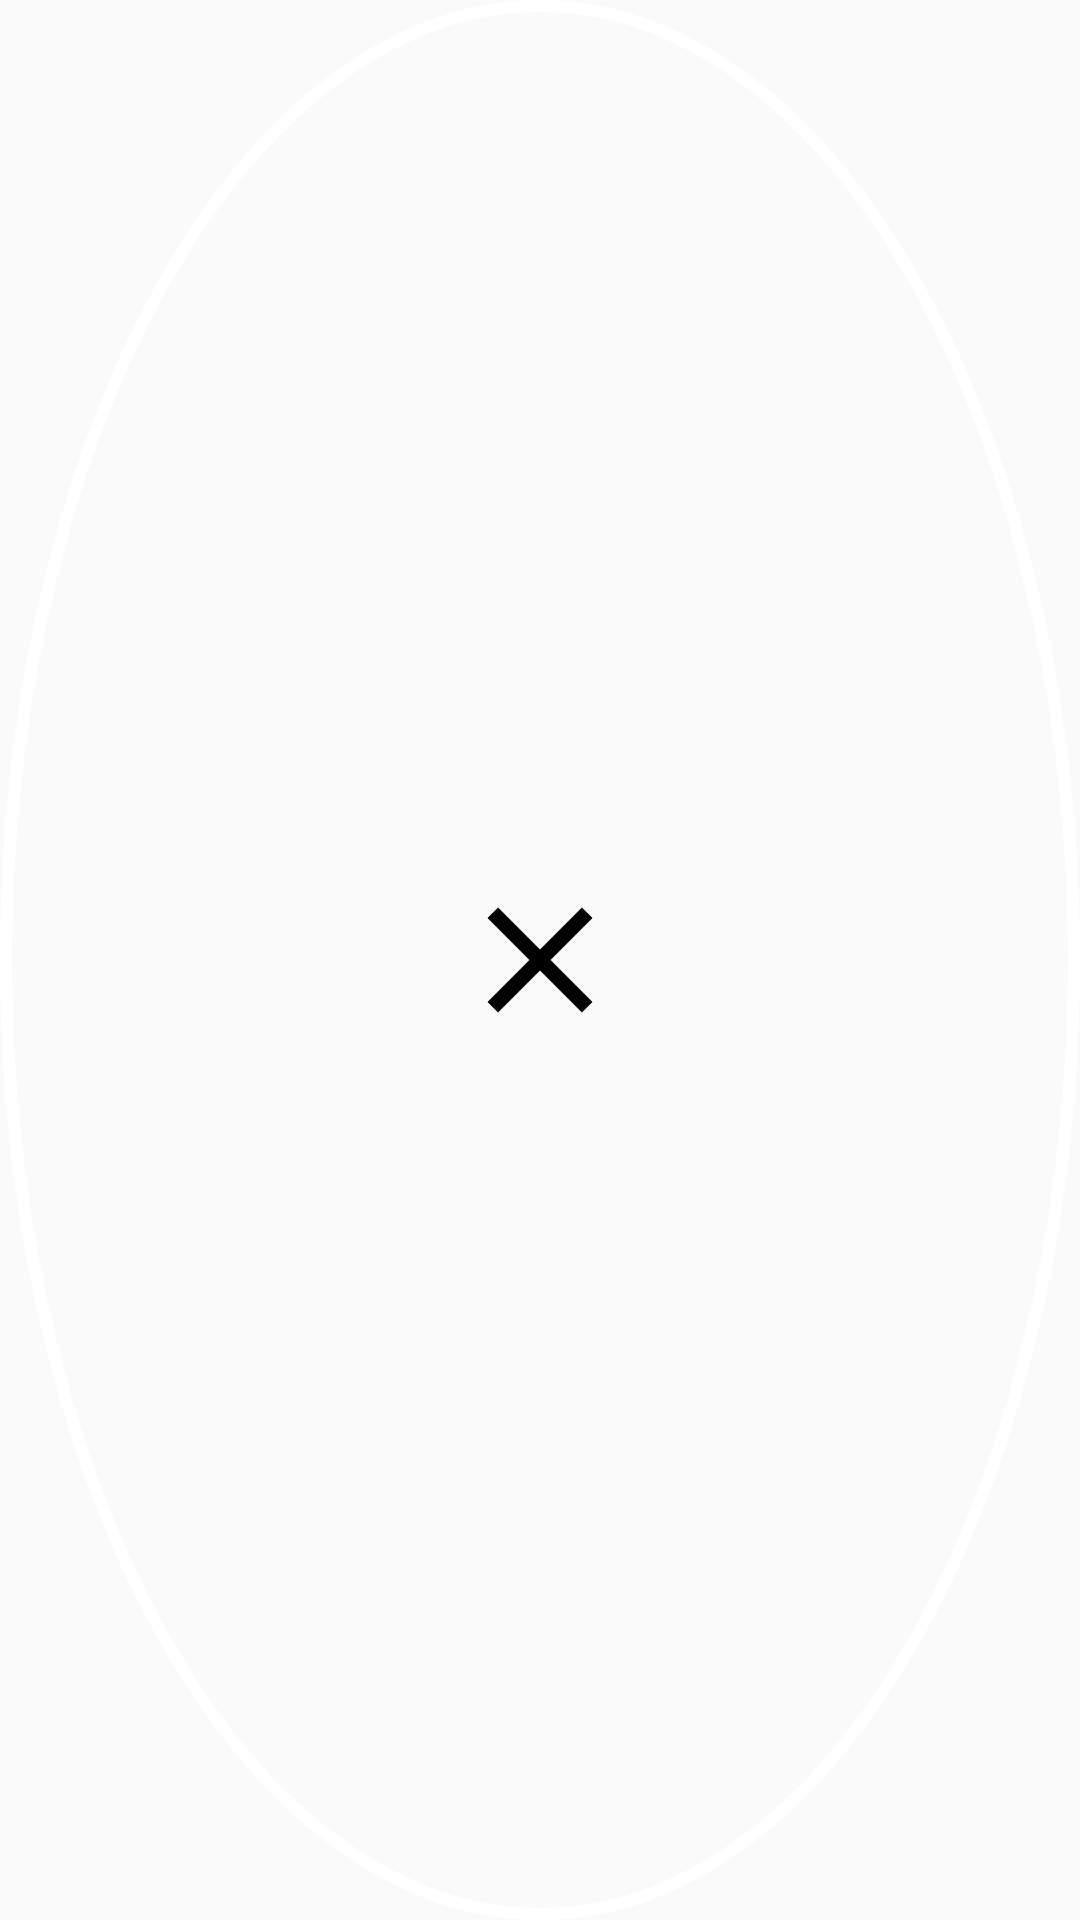

Point at icon controls on the screen. Image size 1080x1920, points as [x,y].
Close: [540,960]
